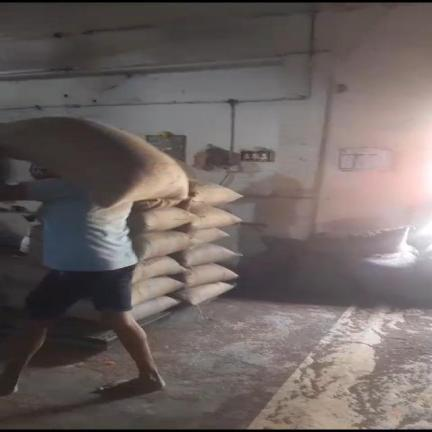Zone-Counting: (0, 117, 188, 387)
